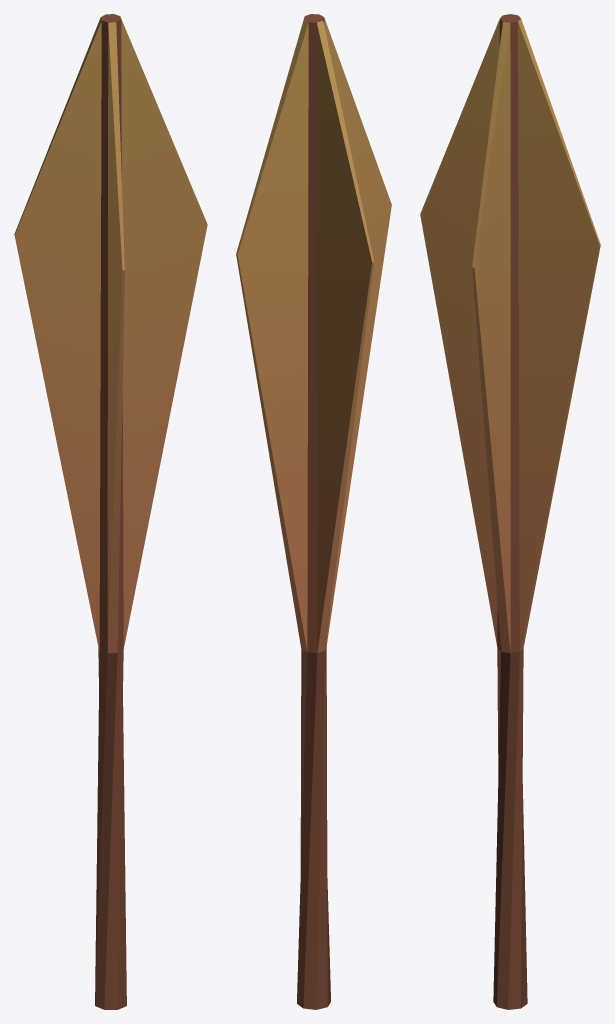
File: Tree_29_gradient_yellow_vc.fbx
3 renders of one model, left to right at view 1: azimuth 30°, elevation 25°; view 2: azimuth 150°, elevation 25°; view 3: azimuth 270°, elevation 25°, orthographic.
Parts seen in each view (by area): view 1: Tree_29_gradient_yellow_vc; view 2: Tree_29_gradient_yellow_vc; view 3: Tree_29_gradient_yellow_vc.
Part boxes in pixels (x1,y1,x2,y2): Tree_29_gradient_yellow_vc: [14, 14, 207, 1009]; Tree_29_gradient_yellow_vc: [236, 14, 391, 1009]; Tree_29_gradient_yellow_vc: [420, 14, 600, 1009].
Size of the model in its own units: 48.99 by 294 by 48.99.
